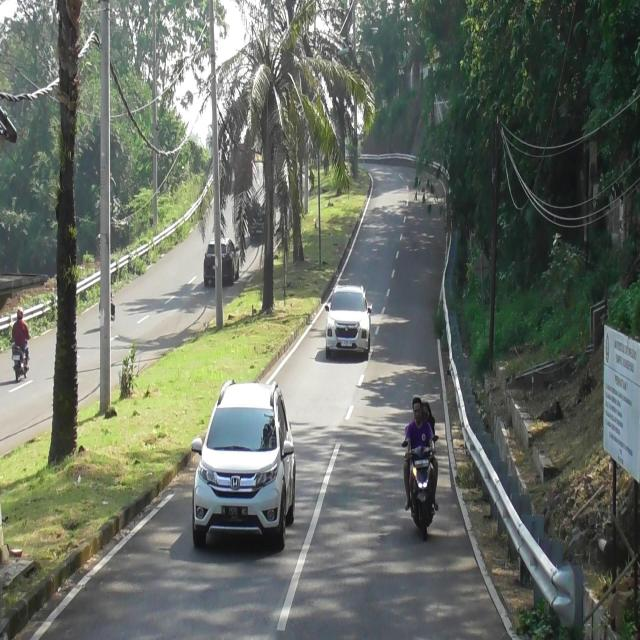motorcycle: (401, 437, 436, 538), (10, 344, 30, 381)
person: (403, 401, 440, 512), (11, 306, 31, 349), (423, 400, 437, 438)
rider_region: (404, 389, 446, 539), (11, 306, 32, 382)
